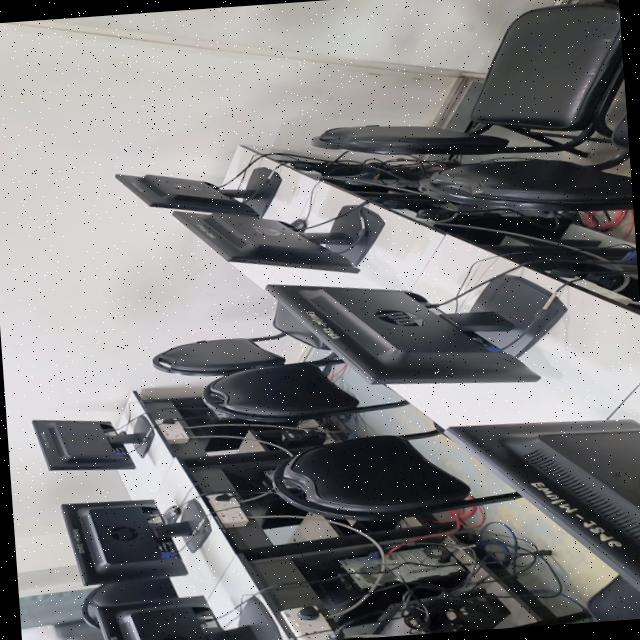Chair: (312, 0, 624, 156), (272, 428, 520, 519), (419, 112, 633, 212), (202, 352, 408, 421), (152, 302, 329, 375), (81, 576, 177, 627), (585, 574, 640, 621)
Cpu: (314, 543, 467, 624), (248, 467, 307, 528), (195, 425, 249, 450)
Monitor: (445, 417, 640, 594), (266, 273, 566, 383), (171, 205, 384, 272), (61, 497, 210, 584), (97, 594, 281, 640), (115, 170, 271, 215), (32, 413, 153, 468)
